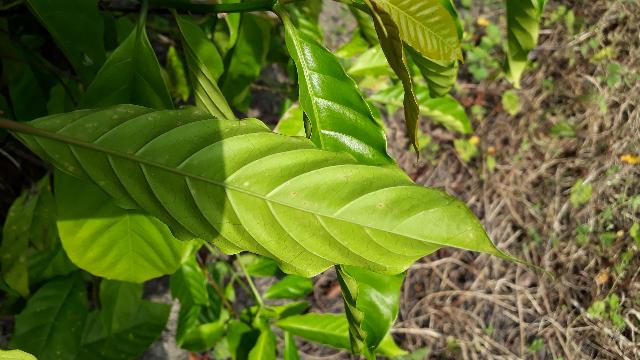rust_level_1: (86, 81, 640, 256)
